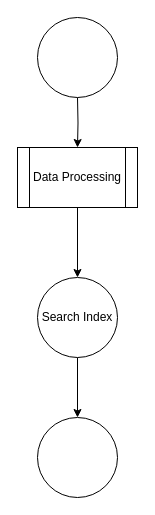
Some shapes in this 155 by 515 pixel diagram are drawn without their labels. Each missing label, with the centre of its shape:
Arxiv Data: the point at 77,57
Dashboard: the point at 77,457
